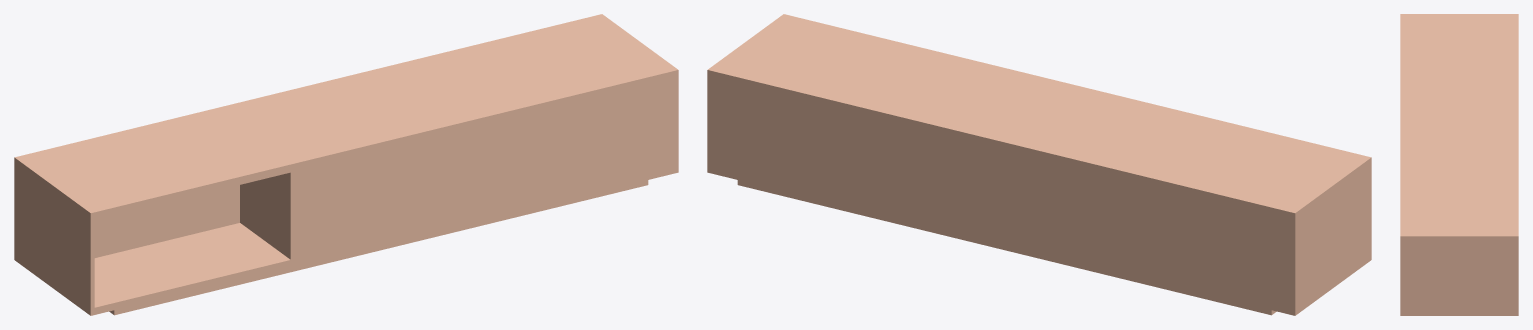
File: Tv cabinet.glb
3 views of the same model, side by side, from view 1: azimuth 30°, elevation 25°; view 2: azimuth 150°, elevation 25°; view 3: azimuth 270°, elevation 25° (orthographic). The views are drawn at different scales.
Parts seen in each view (by area): view 1: Cube.044; view 2: Cube.044; view 3: Cube.044.
Boxes of the visible parts, x1,y1,x2,y2 form: Cube.044: (14,14,678,315); Cube.044: (707,14,1371,315); Cube.044: (1400,14,1518,315).
Size of the model in its own units: 2.31 by 0.4219 by 0.5192.
